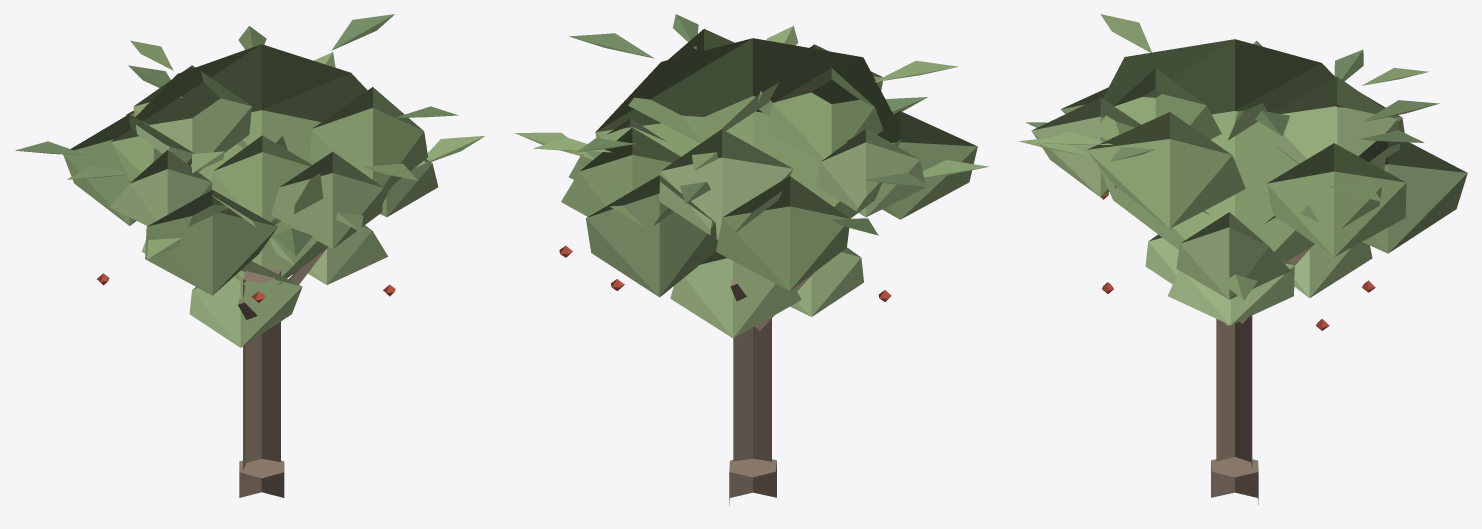
The model's file is shu.xiangzhang@fruiting__summer.glb.
The picture shows the model from 3 angles, left to right: view 1: azimuth 30°, elevation 25°; view 2: azimuth 150°, elevation 25°; view 3: azimuth 270°, elevation 25°; orthographic projection. The views are drawn at different scales.
Visible parts, largest first — view 1: shu.xiangzhang@fruiting__summer; view 2: shu.xiangzhang@fruiting__summer; view 3: shu.xiangzhang@fruiting__summer.
Part boxes in pixels (box(x1,y1,x2,y2)): shu.xiangzhang@fruiting__summer: box(15, 14, 485, 497); shu.xiangzhang@fruiting__summer: box(515, 14, 988, 505); shu.xiangzhang@fruiting__summer: box(1019, 14, 1467, 504).
Size of the model in its own units: 17.03 by 17.47 by 15.63.
